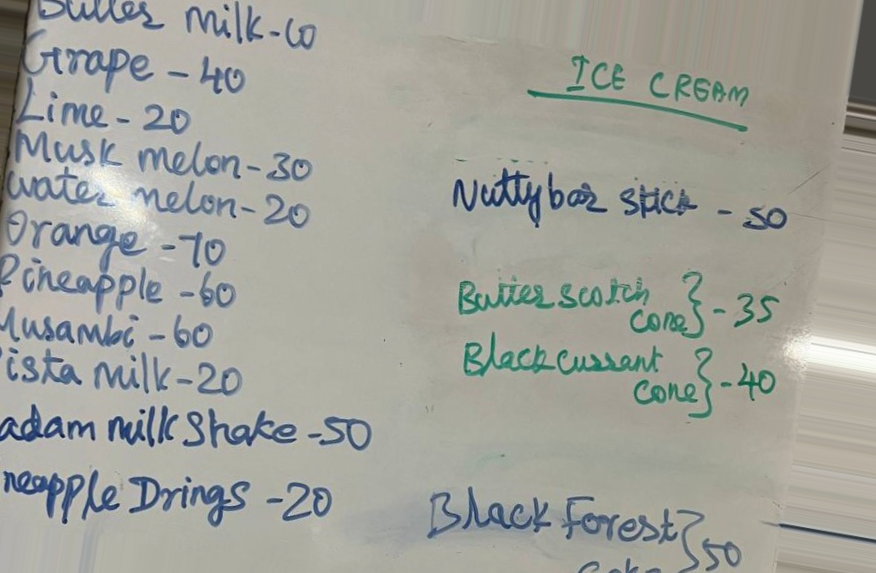badam milkshake - 50: (1, 398, 379, 459)
black current cone - 40: (463, 338, 777, 423)
black forest cake - 50: (428, 483, 747, 573)
butter milk - 10: (30, 1, 323, 40)
butterscotch cone - 35: (454, 269, 779, 342)
grape - 40: (23, 31, 257, 88)
lime - 20: (17, 85, 155, 124)
musambi - 60: (1, 303, 214, 350)
musk melon - 30: (11, 126, 312, 173)
nutty bar - 30: (449, 161, 790, 234)
orange - 70: (1, 209, 226, 254)
pineapple - 60: (1, 255, 242, 302)
pineapple drink - 20: (1, 463, 336, 526)
pista milk - 20: (1, 349, 251, 401)
water melon - 20: (8, 177, 311, 216)
